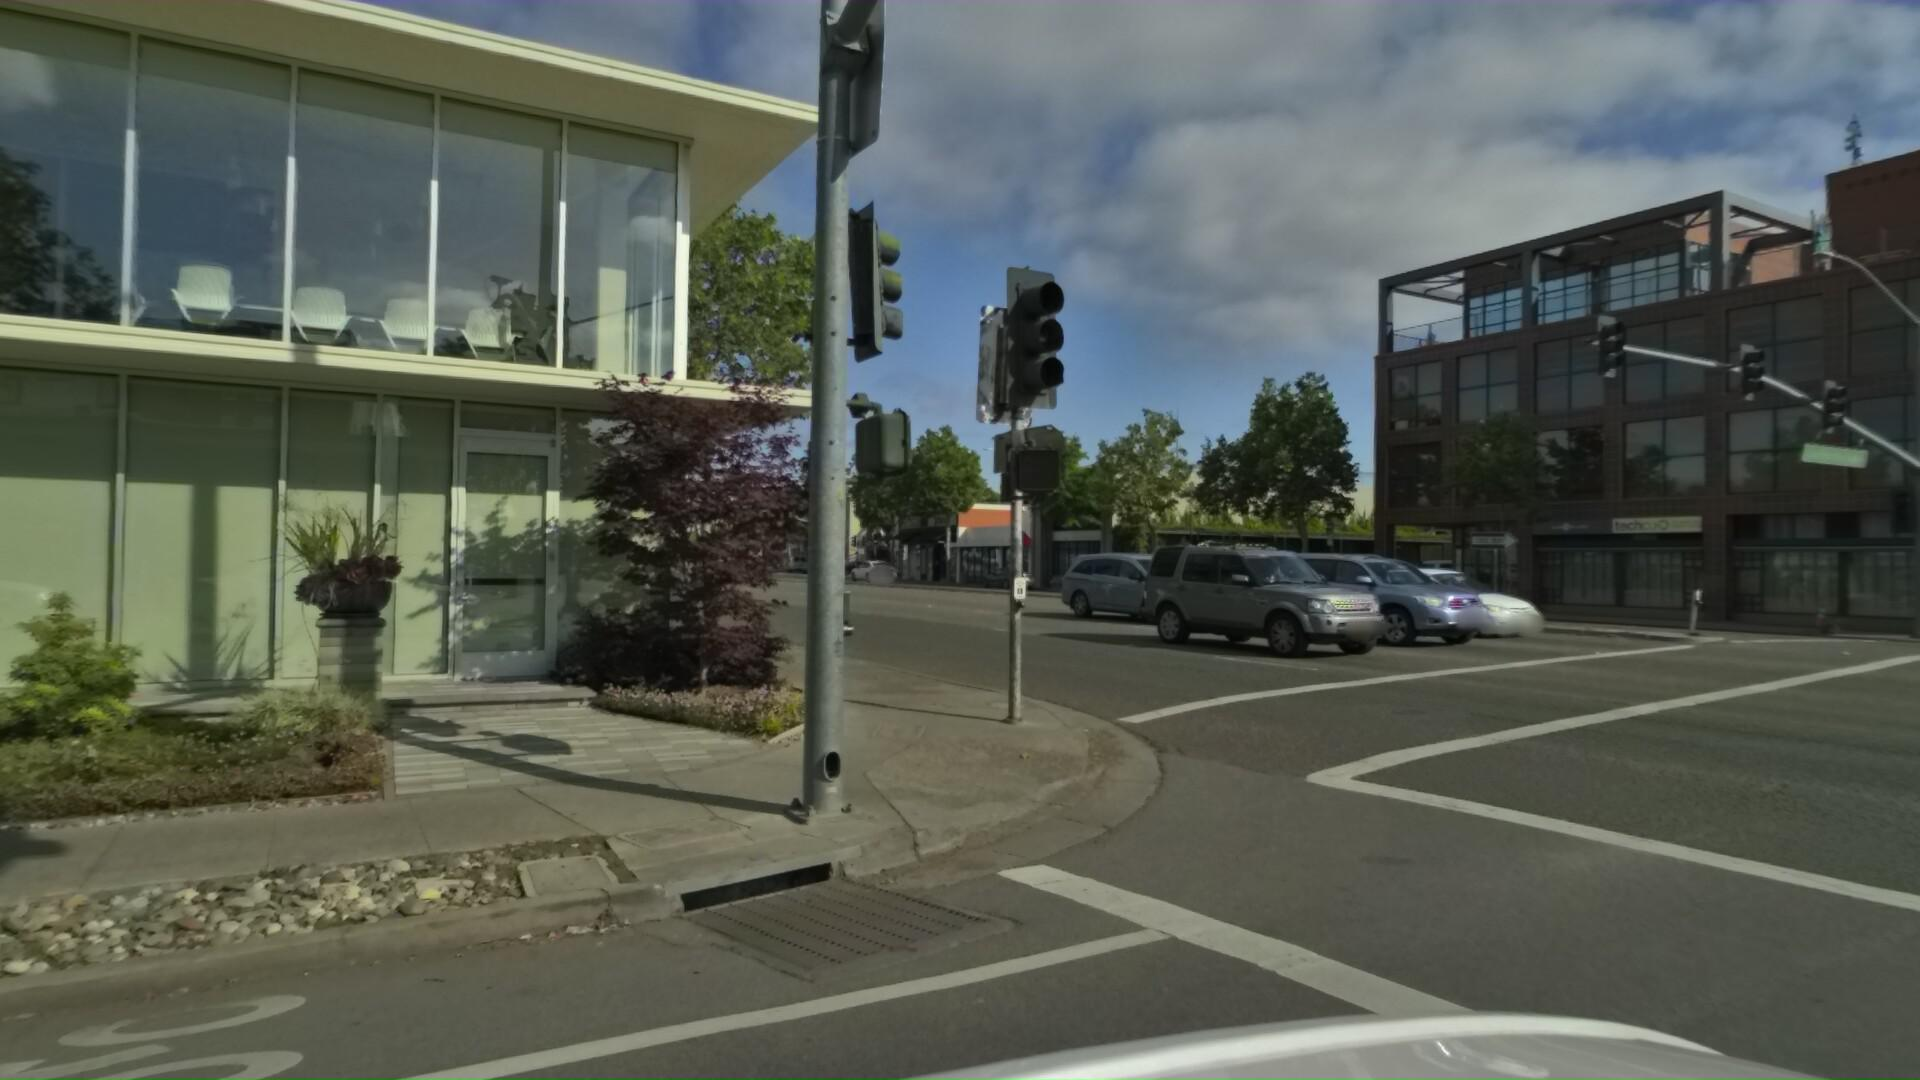car: (1127, 520, 1396, 662), (1232, 531, 1518, 642), (1316, 553, 1563, 632), (1048, 535, 1250, 620), (978, 551, 1040, 578), (836, 556, 893, 582)
